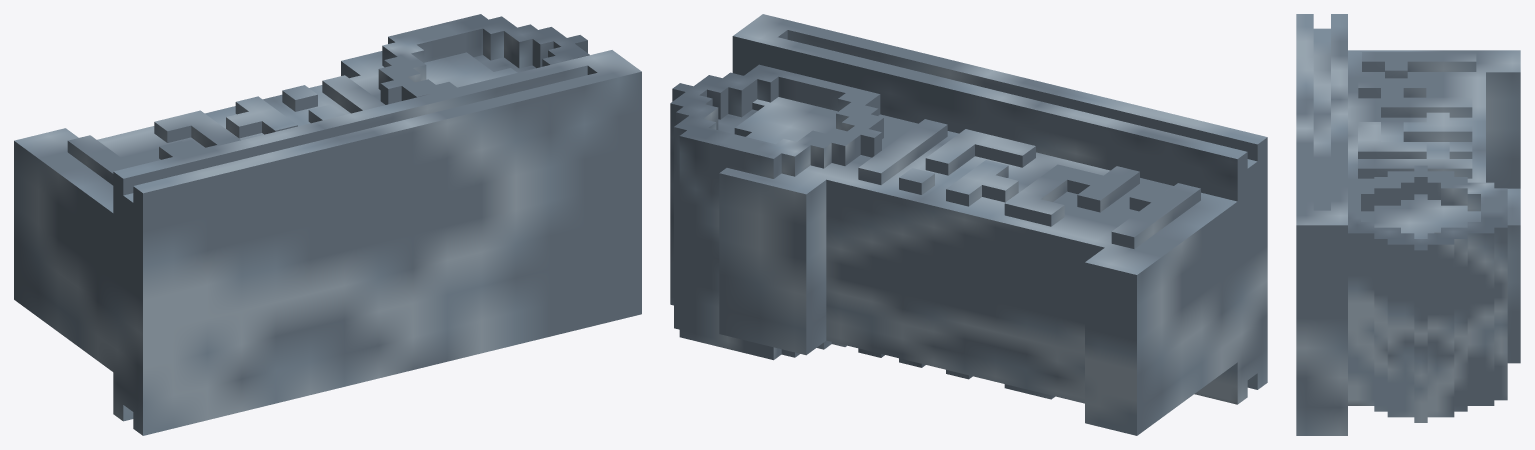
File: Column.fbx
3 views of the same model, side by side, from view 1: azimuth 30°, elevation 25°; view 2: azimuth 150°, elevation 25°; view 3: azimuth 270°, elevation 25° (orthographic). The views are drawn at different scales.
Visible parts, largest first — view 1: Cylinder; view 2: Cylinder; view 3: Cylinder.
Boxes of the visible parts, <box> form: Cylinder: <box>14,14,641,435</box>; Cylinder: <box>670,14,1267,435</box>; Cylinder: <box>1296,14,1520,435</box>.
Size of the model in its own units: 217 by 98.08 by 94.59.
Materials: 1 (1 with a texture image).
